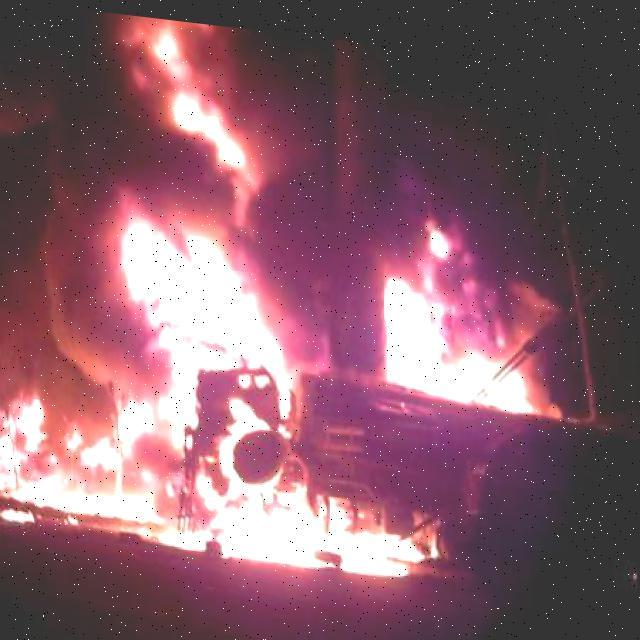Fire: (115, 12, 266, 168)
